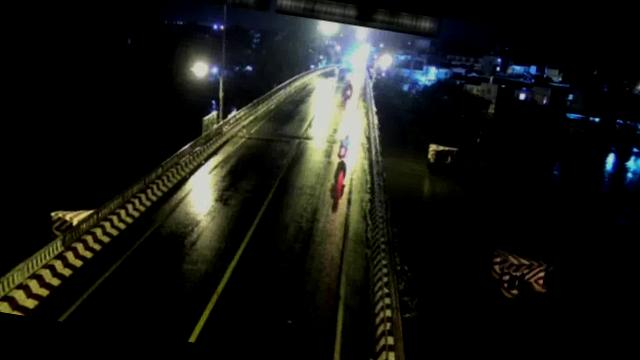Bike: (334, 133, 352, 162)
